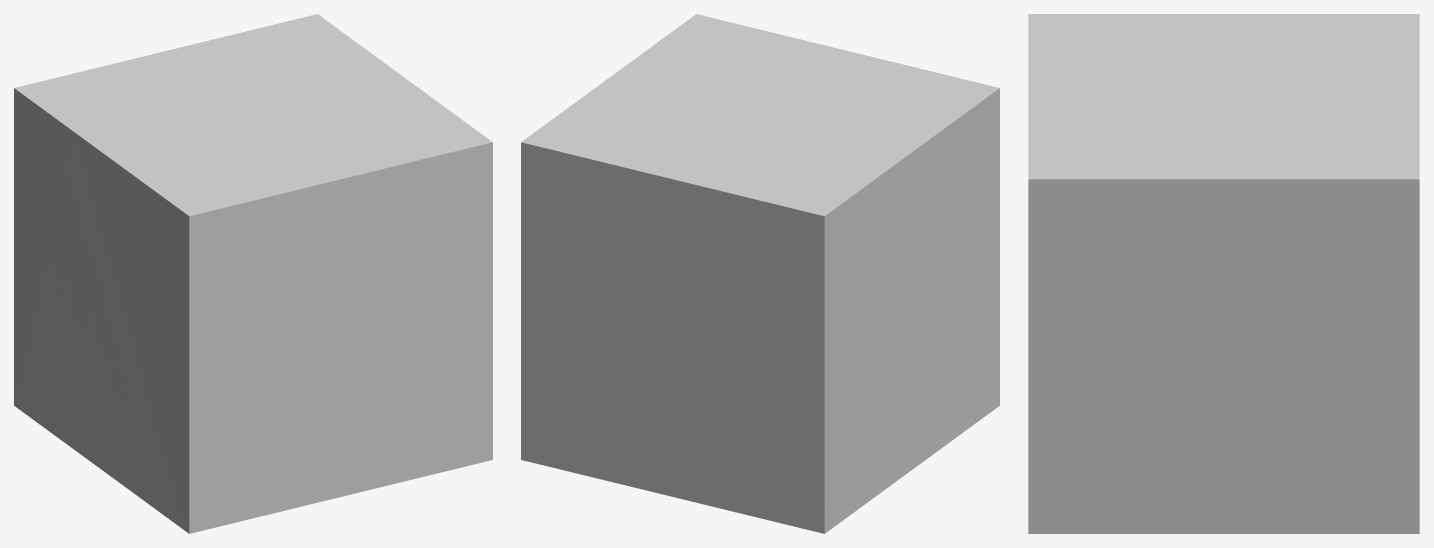
File: CapybaraAreaL3_Baked.fbx
3 views of the same model, side by side, from view 1: azimuth 30°, elevation 25°; view 2: azimuth 150°, elevation 25°; view 3: azimuth 270°, elevation 25° (orthographic). The views are drawn at different scales.
Visible parts, largest first — view 1: obj1, obj2; view 2: obj1, obj2; view 3: obj1.
Part boxes in pixels (<box>): obj1: <box>14,14,492,533</box>; obj2: <box>14,133,188,532</box>; obj1: <box>521,14,999,533</box>; obj2: <box>825,178,998,532</box>; obj1: <box>1028,14,1419,533</box>.
Bounding box in the file's own units: 200 × 200 × 200.
Materials: 2 (1 with a texture image).
